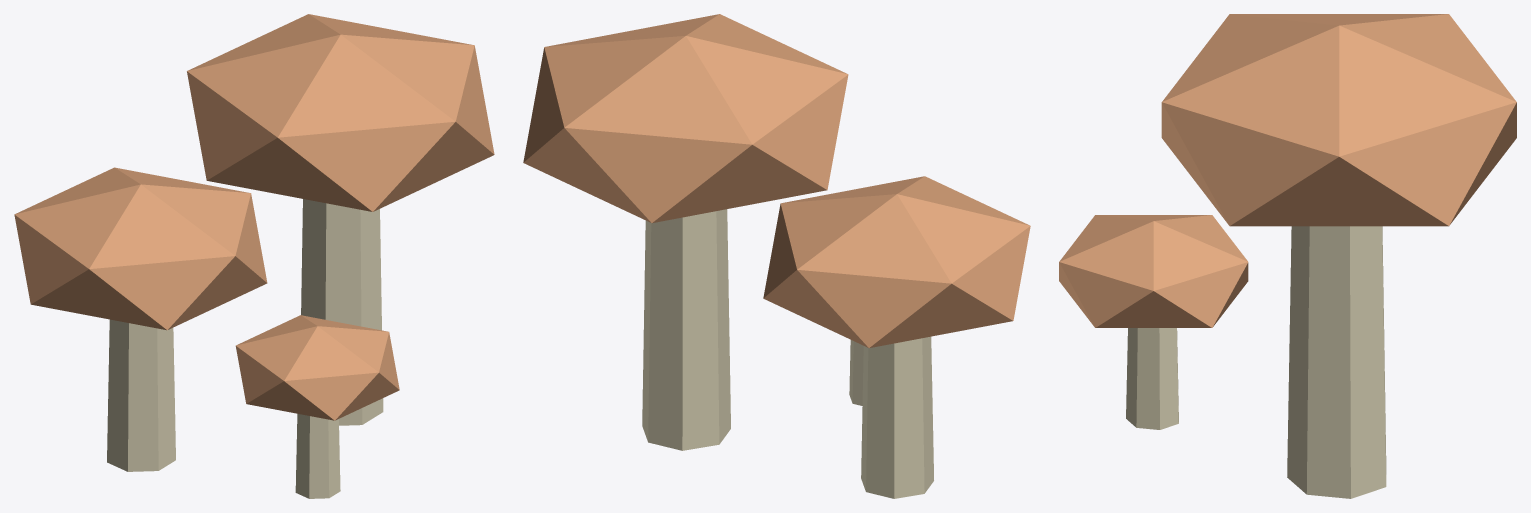
The model's file is CC_WildFungus.fbx.
3 views of the same model, side by side, from view 1: azimuth 30°, elevation 25°; view 2: azimuth 150°, elevation 25°; view 3: azimuth 270°, elevation 25° (orthographic). The views are drawn at different scales.
Visible parts, largest first — view 1: Wild cap.001, Wild cap, Wild cap.002, Stem.008, Stem.007, Stem.009; view 2: Wild cap.001, Wild cap, Stem.008, Stem.007, Stem.009; view 3: Wild cap.001, Stem.008, Wild cap.002, Stem.009.
Boxes of the visible parts, x1=… form: Wild cap.001: x1=187, y1=14, x2=494, y2=211; Wild cap: x1=14, y1=167, x2=267, y2=330; Wild cap.002: x1=235, y1=315, x2=399, y2=420; Stem.008: x1=301, y1=199, x2=383, y2=425; Stem.007: x1=107, y1=319, x2=175, y2=471; Stem.009: x1=295, y1=413, x2=340, y2=498; Wild cap.001: x1=523, y1=14, x2=848, y2=223; Wild cap: x1=763, y1=176, x2=1030, y2=348; Stem.008: x1=642, y1=209, x2=730, y2=450; Stem.007: x1=861, y1=336, x2=933, y2=498; Stem.009: x1=849, y1=340, x2=863, y2=405; Wild cap.001: x1=1161, y1=14, x2=1516, y2=226; Stem.008: x1=1287, y1=226, x2=1386, y2=498; Wild cap.002: x1=1059, y1=215, x2=1248, y2=327; Stem.009: x1=1126, y1=328, x2=1178, y2=429.
Size of the model in its own units: 1.33 by 1.08 by 0.9869.
